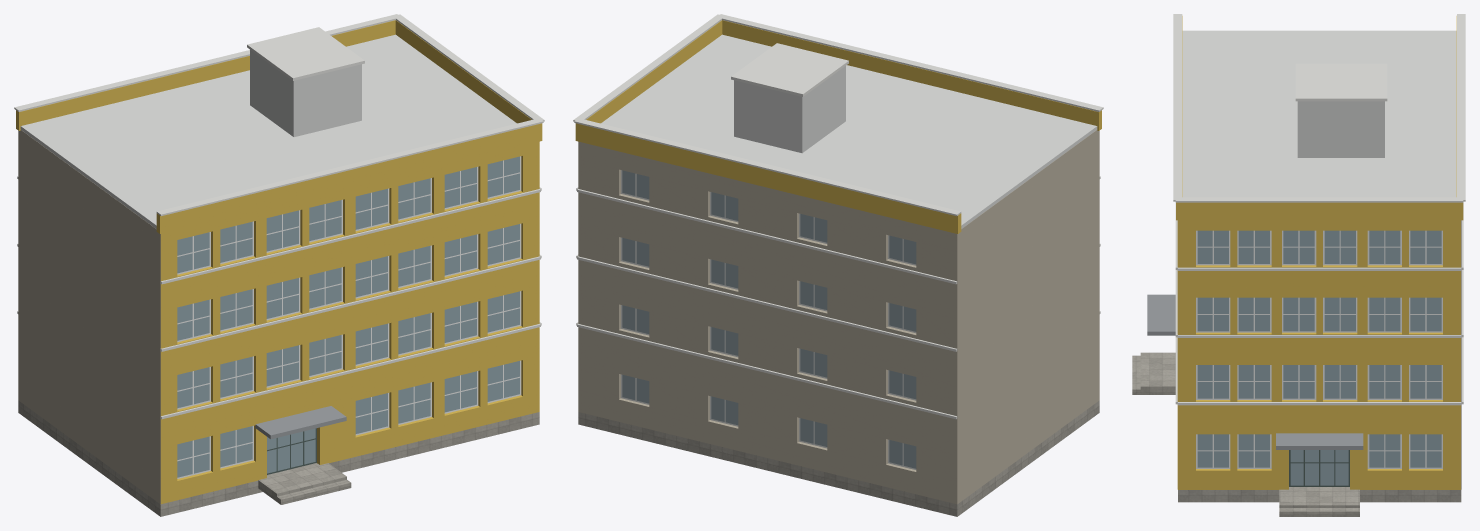
The picture shows the model from 3 angles, left to right: view 1: azimuth 30°, elevation 25°; view 2: azimuth 150°, elevation 25°; view 3: azimuth 270°, elevation 25°; orthographic projection.
Visible parts, largest first — view 1: main-east__yellow, main-east__plaster, main-east__whiteroof, main-east__glass, main-east__cap, main-east__whiteframe, main-east__roofbox, main-east__stone, main-east__canopy, main-east__threshold-library, main-east__stair-library; view 2: main-east__plaster, main-east__whiteroof, main-east__cap, main-east__yellow, main-east__sideglass, main-east__stone, main-east__roofbox, main-east__whiteframe; view 3: main-east__yellow, main-east__whiteroof, main-east__glass, main-east__cap, main-east__whiteframe, main-east__roofbox, main-east__canopy, main-east__stone, main-east__stair-east, main-east__threshold-library, main-east__threshold-east, main-east__stair-library (+1 smaller).
Part boxes in pixels (<box>): main-east__yellow: <box>16,20,542,504</box>; main-east__plaster: <box>18,130,160,503</box>; main-east__whiteroof: <box>20,34,516,228</box>; main-east__glass: <box>177,156,519,477</box>; main-east__cap: <box>14,14,544,419</box>; main-east__whiteframe: <box>177,156,521,478</box>; main-east__roofbox: <box>250,50,361,136</box>; main-east__stone: <box>18,400,539,516</box>; main-east__canopy: <box>255,406,346,439</box>; main-east__threshold-library: <box>258,463,342,498</box>; main-east__stair-library: <box>273,473,351,504</box>; main-east__plaster: <box>578,130,1099,504</box>; main-east__whiteroof: <box>601,34,1097,228</box>; main-east__cap: <box>573,14,1103,419</box>; main-east__yellow: <box>575,20,1101,233</box>; main-east__sideglass: <box>622,170,916,468</box>; main-east__stone: <box>578,400,1099,516</box>; main-east__roofbox: <box>734,66,845,153</box>; main-east__whiteframe: <box>621,170,916,469</box>; main-east__yellow: <box>1176,16,1463,489</box>; main-east__whiteroof: <box>1182,30,1456,197</box>; main-east__glass: <box>1197,230,1441,485</box>; main-east__cap: <box>1173,14,1465,405</box>; main-east__whiteframe: <box>1196,230,1442,468</box>; main-east__roofbox: <box>1297,101,1384,157</box>; main-east__canopy: <box>1147,294,1363,449</box>; main-east__stone: <box>1178,487,1461,502</box>; main-east__stair-east: <box>1279,501,1359,516</box>; main-east__threshold-library: <box>1148,352,1175,394</box>; main-east__threshold-east: <box>1279,488,1359,501</box>; main-east__stair-library: <box>1132,352,1148,394</box>.
Bounding box in the file's own units: 22.19 × 17.58 × 15.29.
12 materials, 3 textured.
